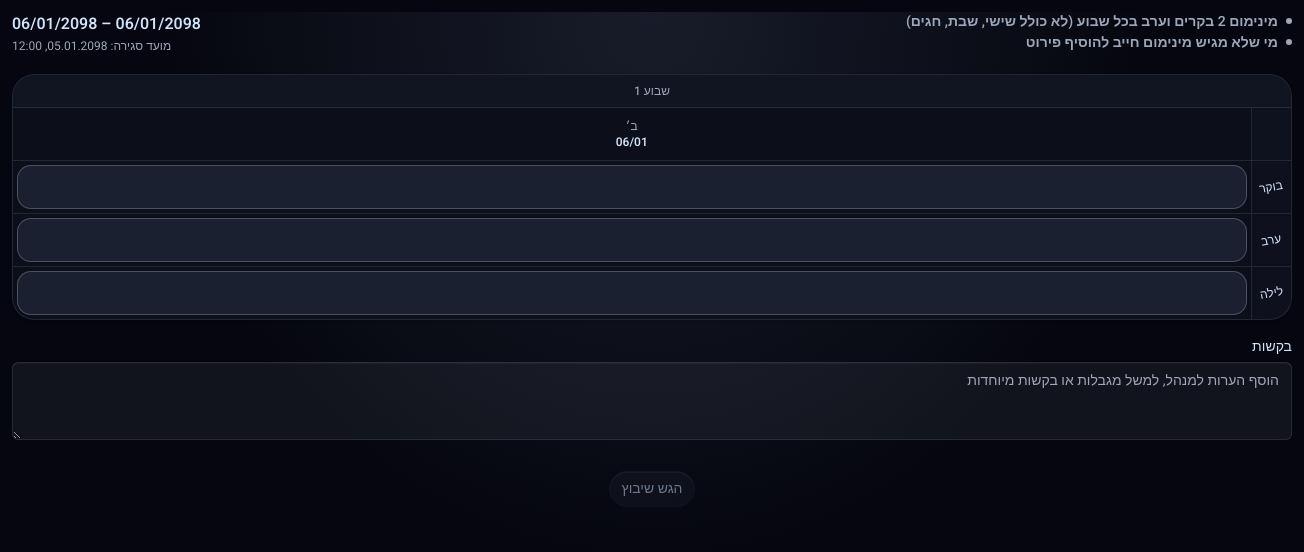
submits only explicit choices
The image size is (1304, 552).
Click the button named "2098-01-06 ערב: לא נבחר": (632, 240) [17,218,1246,262]
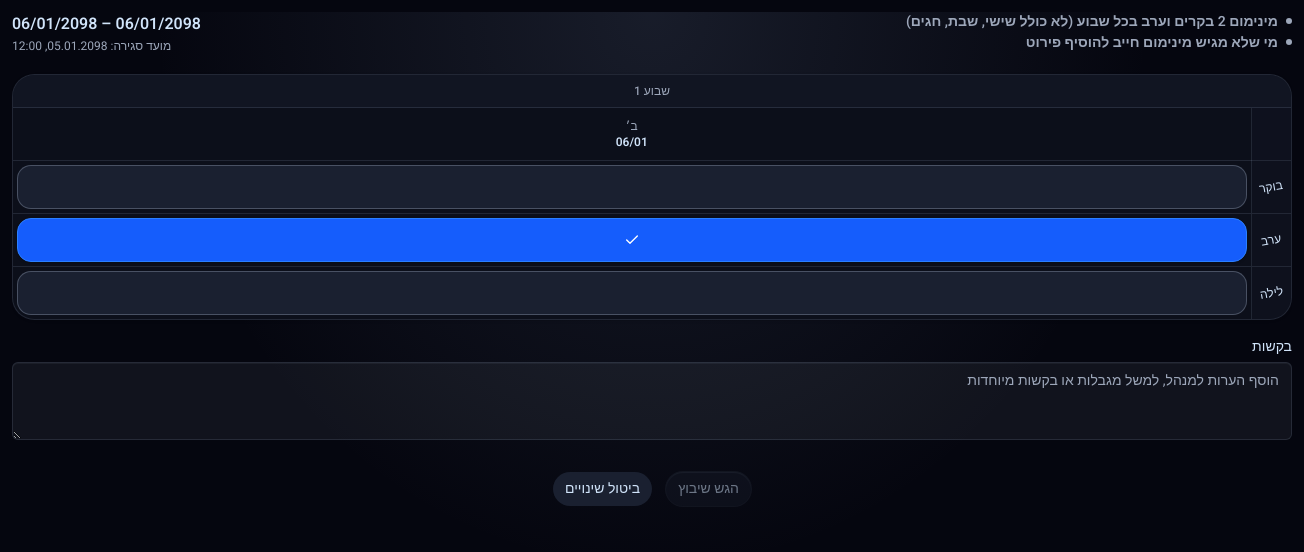
In the text box labelled "בקשות": (652, 401) [12,362,1292,440], type "מילואים"
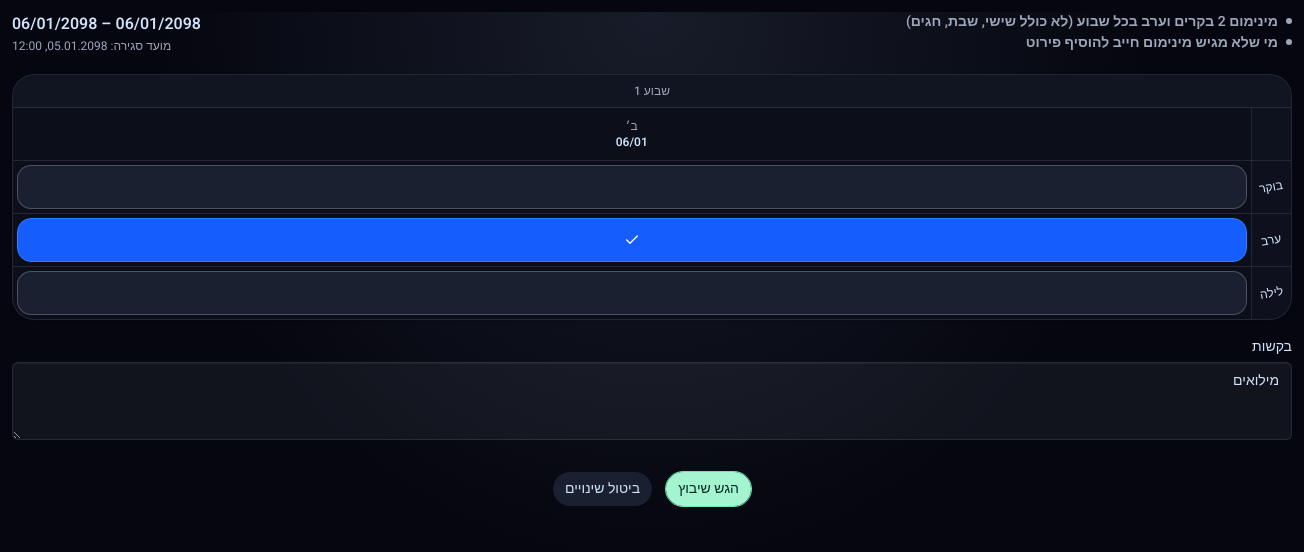
Click the button "הגש שיבוץ": (709, 489) [665,471,752,507]
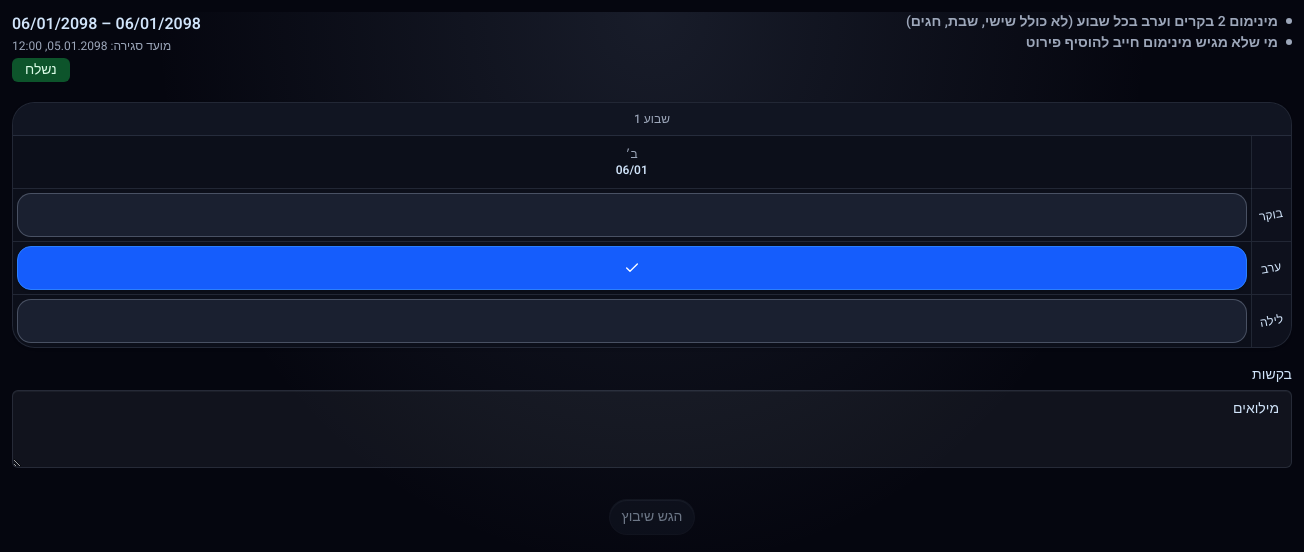
Expected: the icon with test id "availability-status" reads "נשלח", [25,59,57,80]
